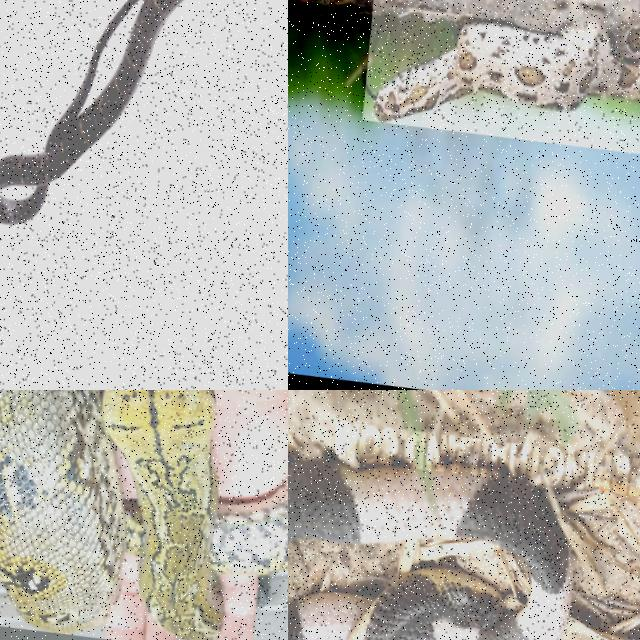Bungarus candidus: (288, 462, 572, 639)
Daboia siamensis: (369, 19, 639, 121)
Malayopython reticulatus: (0, 390, 287, 639)
Ophiophagus hannah: (0, 0, 183, 223)
